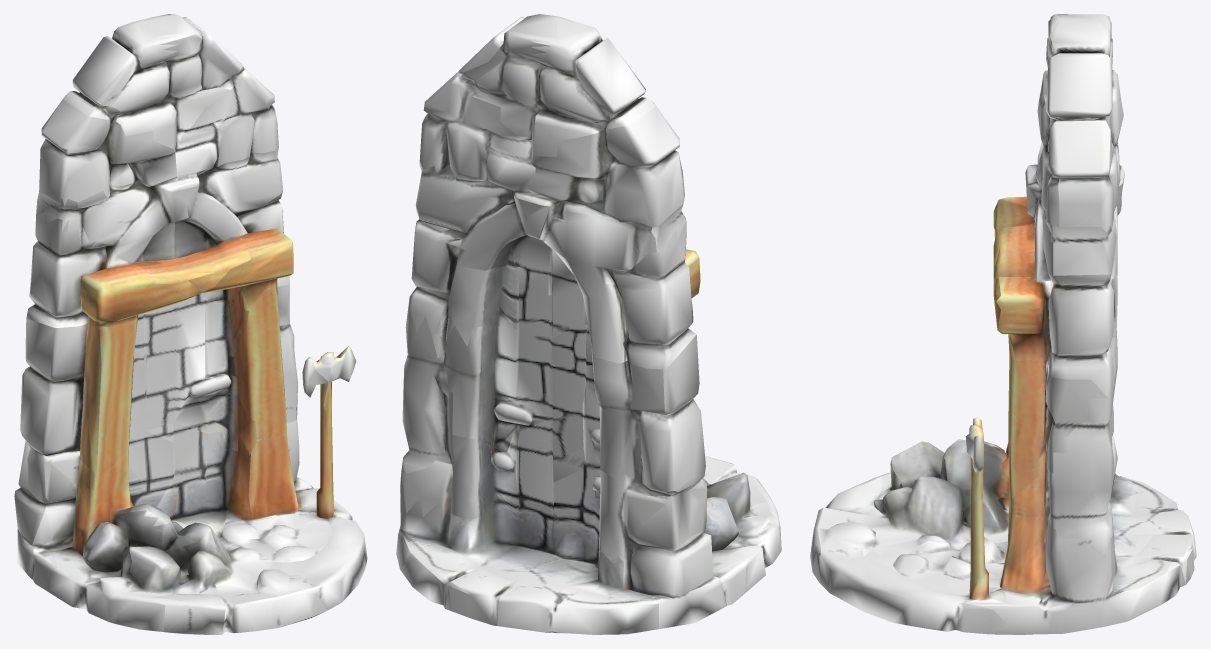
File: mine_ore.glb
3 views of the same model, side by side, from view 1: azimuth 30°, elevation 25°; view 2: azimuth 150°, elevation 25°; view 3: azimuth 270°, elevation 25° (orthographic). The views are drawn at different scales.
Bounding box in the file's own units: 1.15 × 1.91 × 1.24.
1 material, 1 textured.
